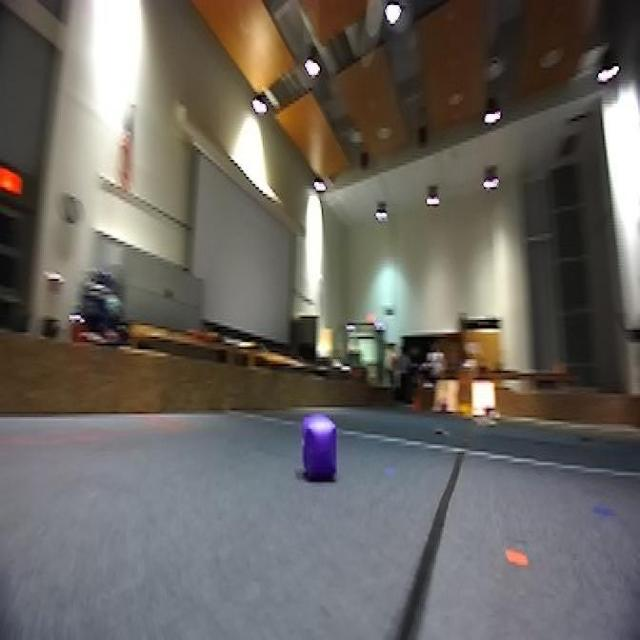frc_cube: (300, 417, 340, 485)
